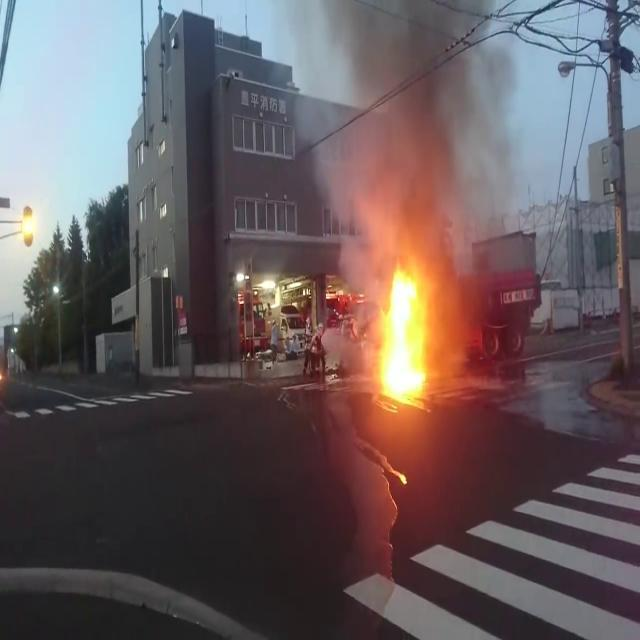Fire: (381, 270, 429, 390)
Smoke: (318, 7, 518, 321)
